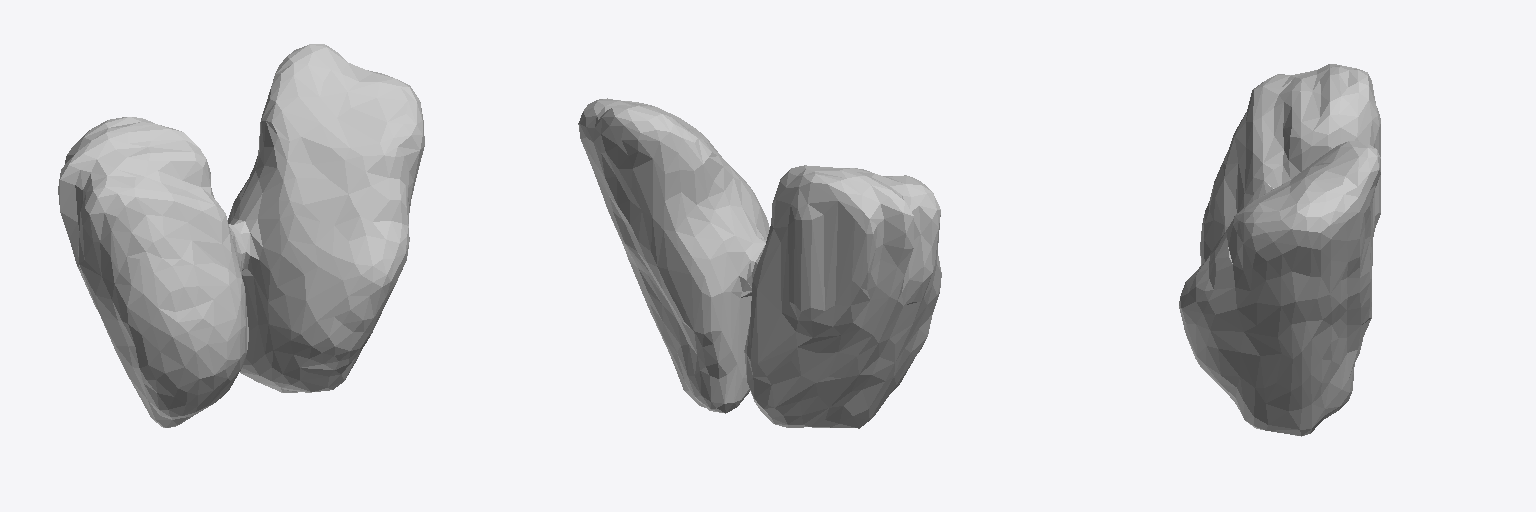
Rendered from thalamus.obj.
3 views of the same model, side by side, from view 1: azimuth 30°, elevation 25°; view 2: azimuth 150°, elevation 25°; view 3: azimuth 270°, elevation 25° (orthographic).
Visible parts, largest first — view 1: thalamus_thalamus; view 2: thalamus_thalamus; view 3: thalamus_thalamus.
Part boxes in pixels (x1,y1,x2,y2): thalamus_thalamus: (58, 44, 424, 427); thalamus_thalamus: (578, 98, 941, 428); thalamus_thalamus: (1179, 64, 1380, 436).
Size of the model in its own units: 4.2 by 3.63 by 2.14.